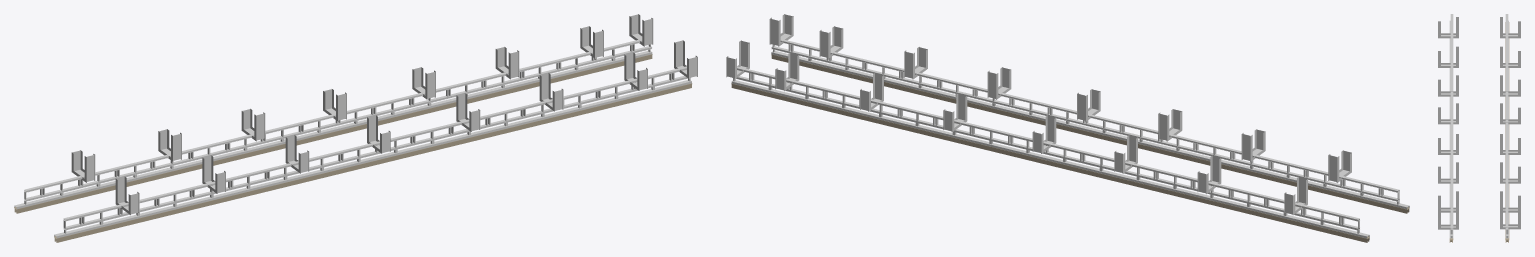
The model's file is SM_H_Building_Tide_Stairs_06_ATLAS.fbx.
3 views of the same model, side by side, from view 1: azimuth 30°, elevation 25°; view 2: azimuth 150°, elevation 25°; view 3: azimuth 270°, elevation 25° (orthographic). The views are drawn at different scales.
Visible parts, largest first — view 1: SM_H_Building_Tide_Stairs_06_ATLAS; view 2: SM_H_Building_Tide_Stairs_06_ATLAS; view 3: SM_H_Building_Tide_Stairs_06_ATLAS.
Part boxes in pixels (x1,y1,x2,y2): SM_H_Building_Tide_Stairs_06_ATLAS: (14,14,697,242); SM_H_Building_Tide_Stairs_06_ATLAS: (726,14,1409,242); SM_H_Building_Tide_Stairs_06_ATLAS: (1438,14,1520,242).
Size of the model in its own units: 10953 by 1761 by 719.
